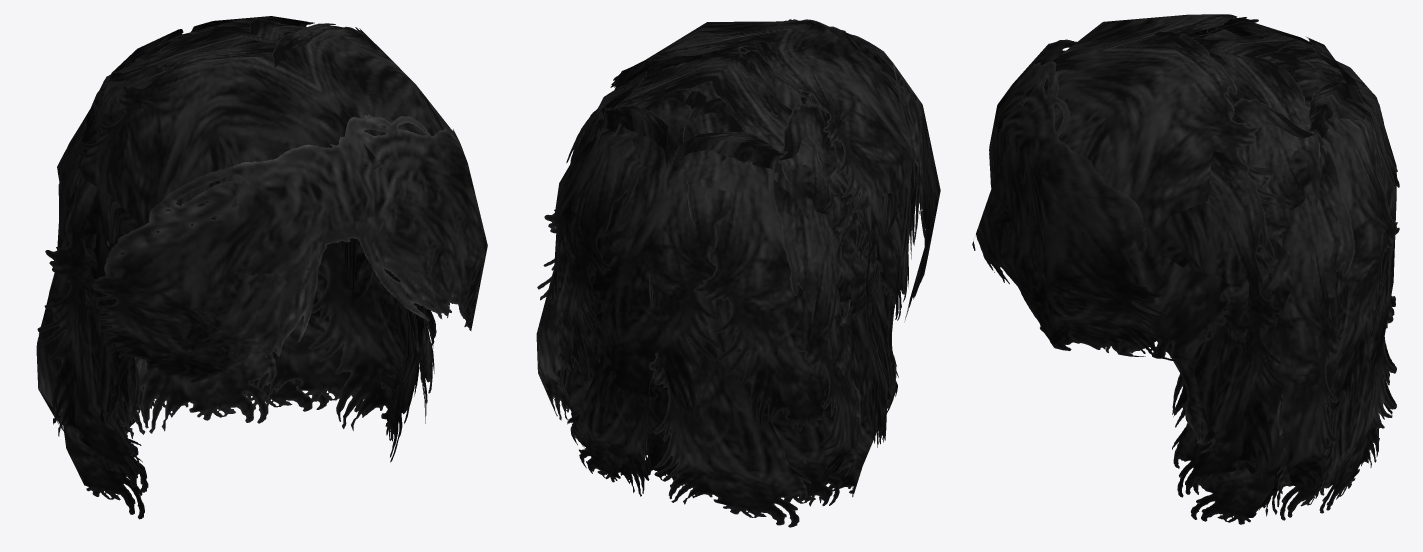
Rendered from hair_011.fbx.
3 renders of one model, left to right at view 1: azimuth 30°, elevation 25°; view 2: azimuth 150°, elevation 25°; view 3: azimuth 270°, elevation 25°, orthographic. The views are drawn at different scales.
Visible parts, largest first — view 1: hair_011; view 2: hair_011; view 3: hair_011.
Boxes of the visible parts, left/top/right/bottom form: hair_011: left=36, top=16, right=487, bottom=519; hair_011: left=536, top=19, right=940, bottom=527; hair_011: left=972, top=14, right=1399, bottom=524.
Bounding box in the file's own units: 24.42 × 27.26 × 24.03.
